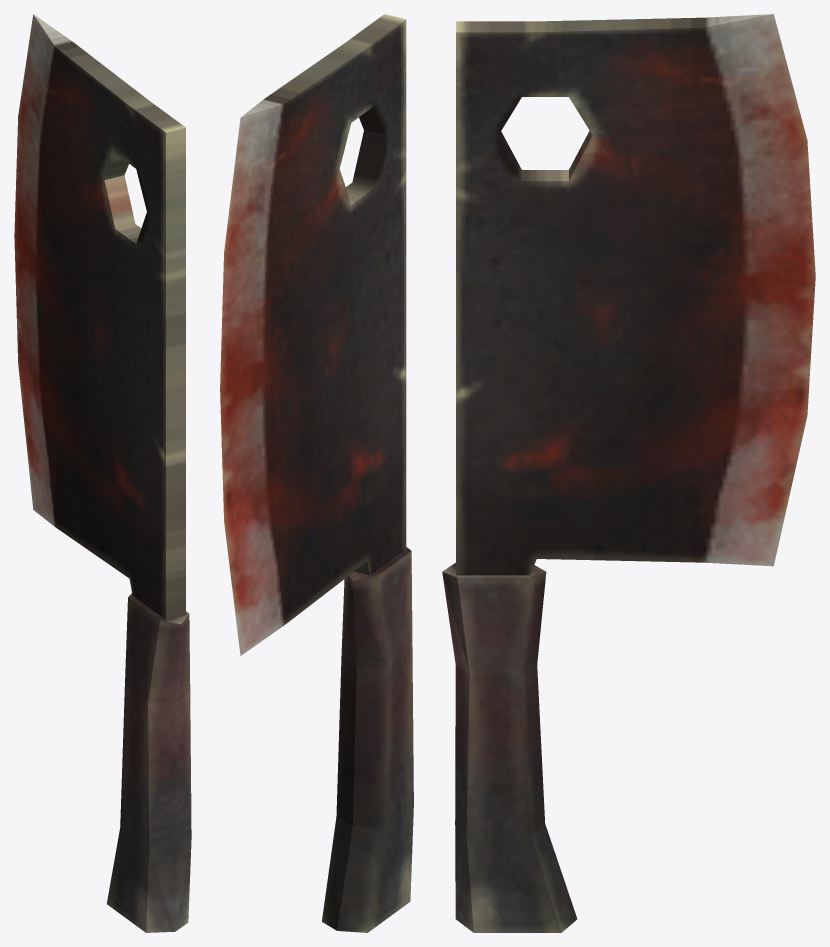
Rendered from Whale_hallowWeapon_cleaver.obj.
3 views of the same model, side by side, from view 1: azimuth 30°, elevation 25°; view 2: azimuth 150°, elevation 25°; view 3: azimuth 270°, elevation 25° (orthographic). The views are drawn at different scales.
Visible parts, largest first — view 1: Whale_hallowWeapon_tri [cleaver]; view 2: Whale_hallowWeapon_tri [cleaver]; view 3: Whale_hallowWeapon_tri [cleaver].
Part boxes in pixels (x1,y1,x2,y2): Whale_hallowWeapon_tri [cleaver]: (14,14,191,932); Whale_hallowWeapon_tri [cleaver]: (220,14,413,932); Whale_hallowWeapon_tri [cleaver]: (442,14,815,932).
Size of the model in its own units: 0.0629 by 1.16 by 0.4323.
1 material, 1 textured.
